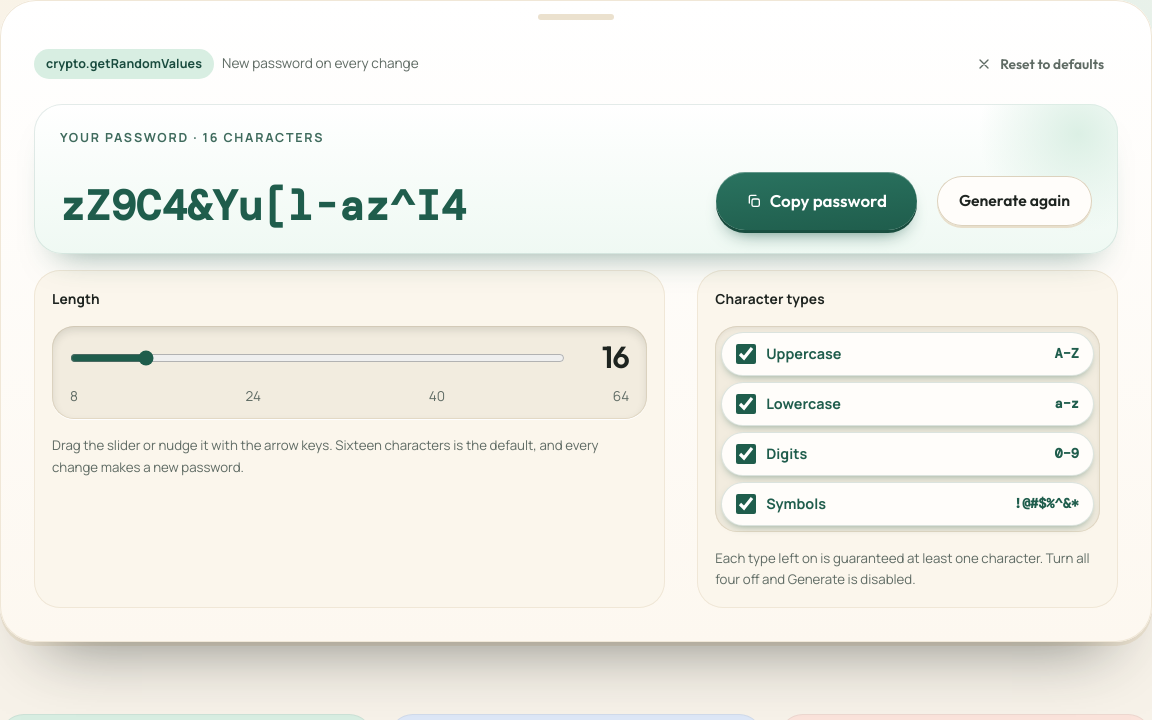
Scenario: PasswordGenerator › puts the password back to defaults when Reset is pressed
The width and height of the screenshot is (1152, 720).
Set the slider labelled "Length" to "40". click: (352, 358)
box: [70,336,565,380]
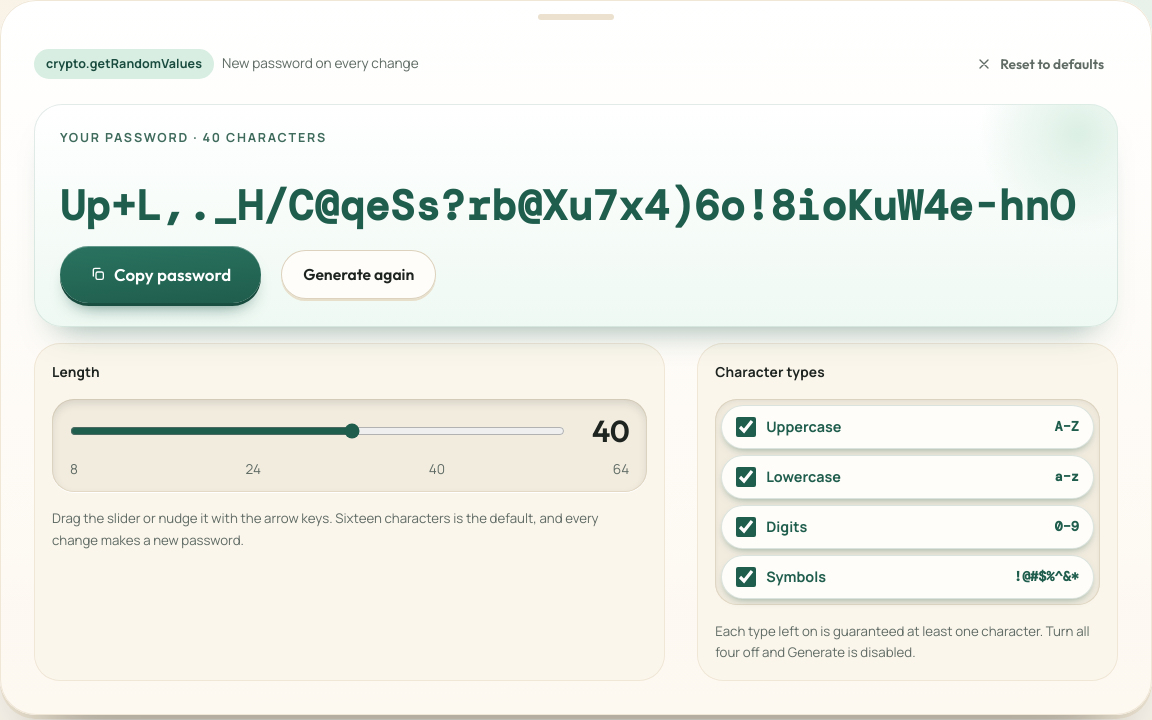
Click the checkbox labelled "Symbols !@#$%^&*". click: (746, 577)
box: [736,567,756,587]
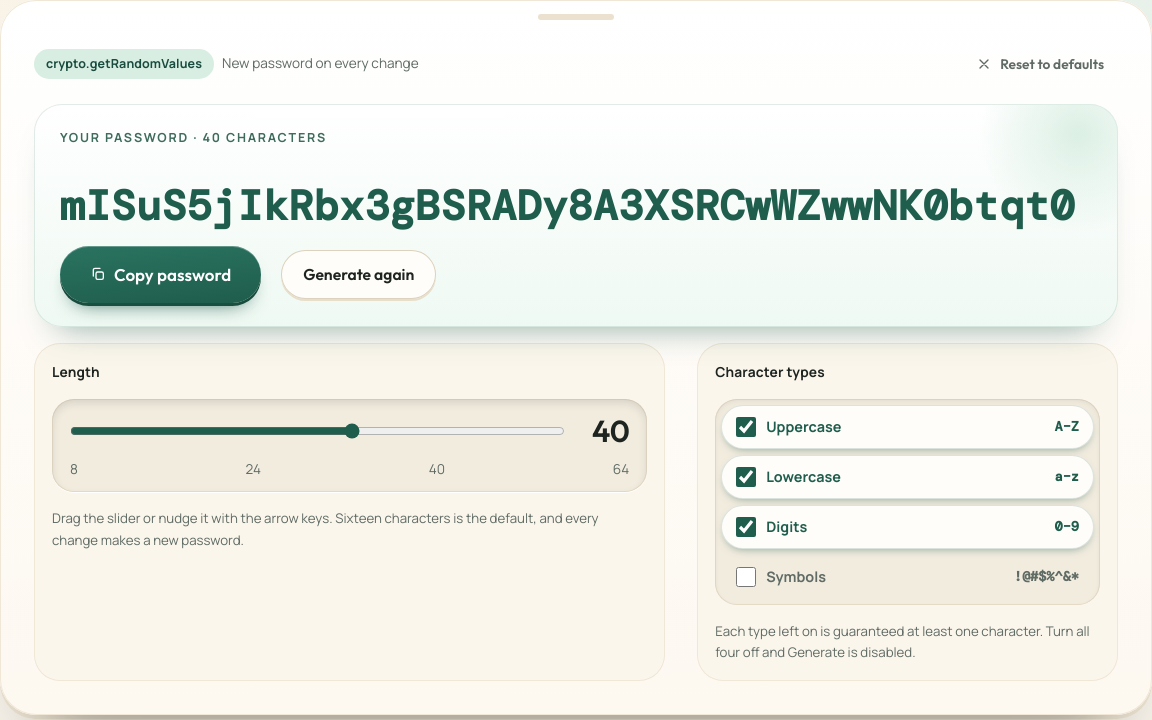
Click the button "Reset to defaults". click: (1040, 64)
box: [962,42,1118,86]
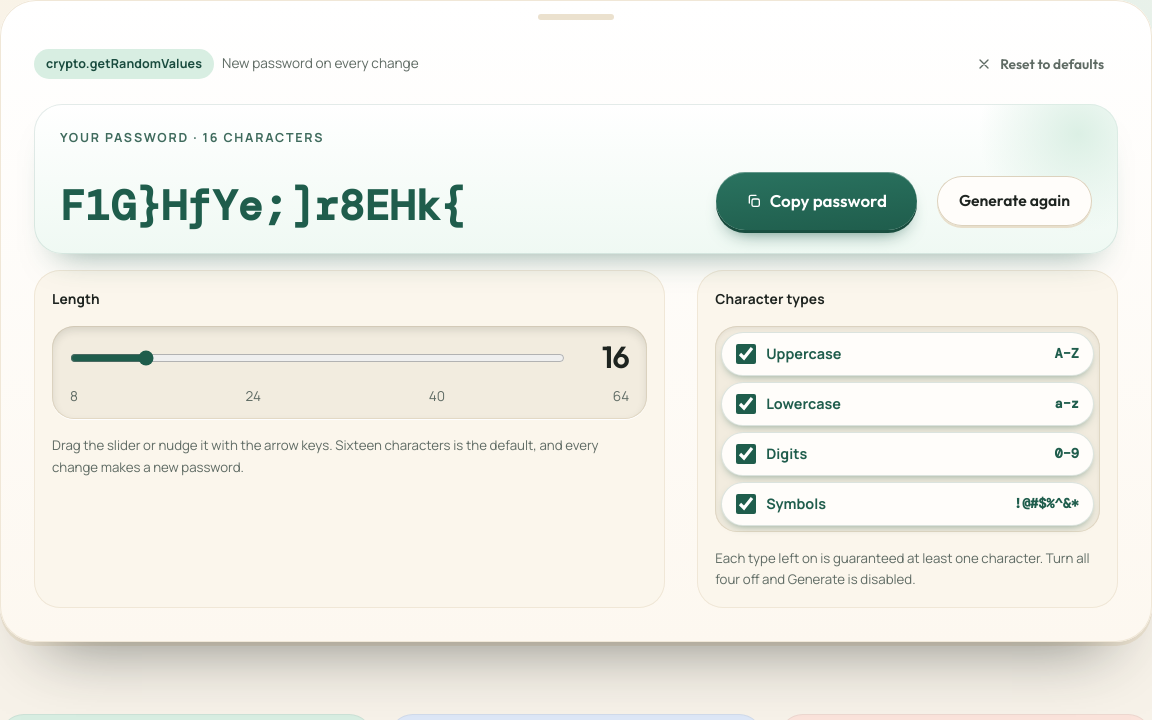
Expected: the checkbox labelled "Symbols !@#$%^&*" is checked, [736,494,756,514]
Expected: the slider labelled "Length" holds "16", [70,336,565,380]
